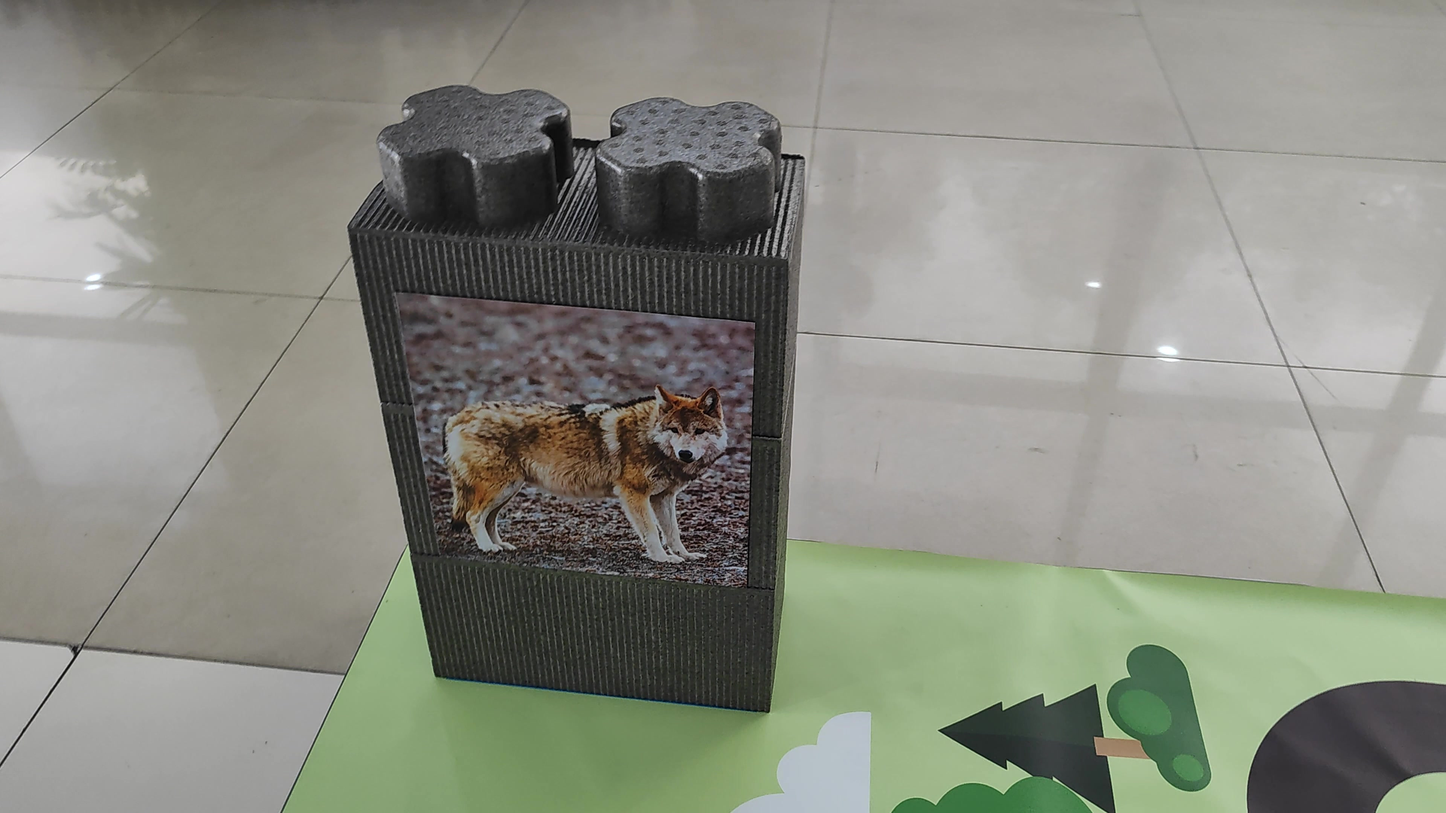wolf: (422, 365, 741, 583)
